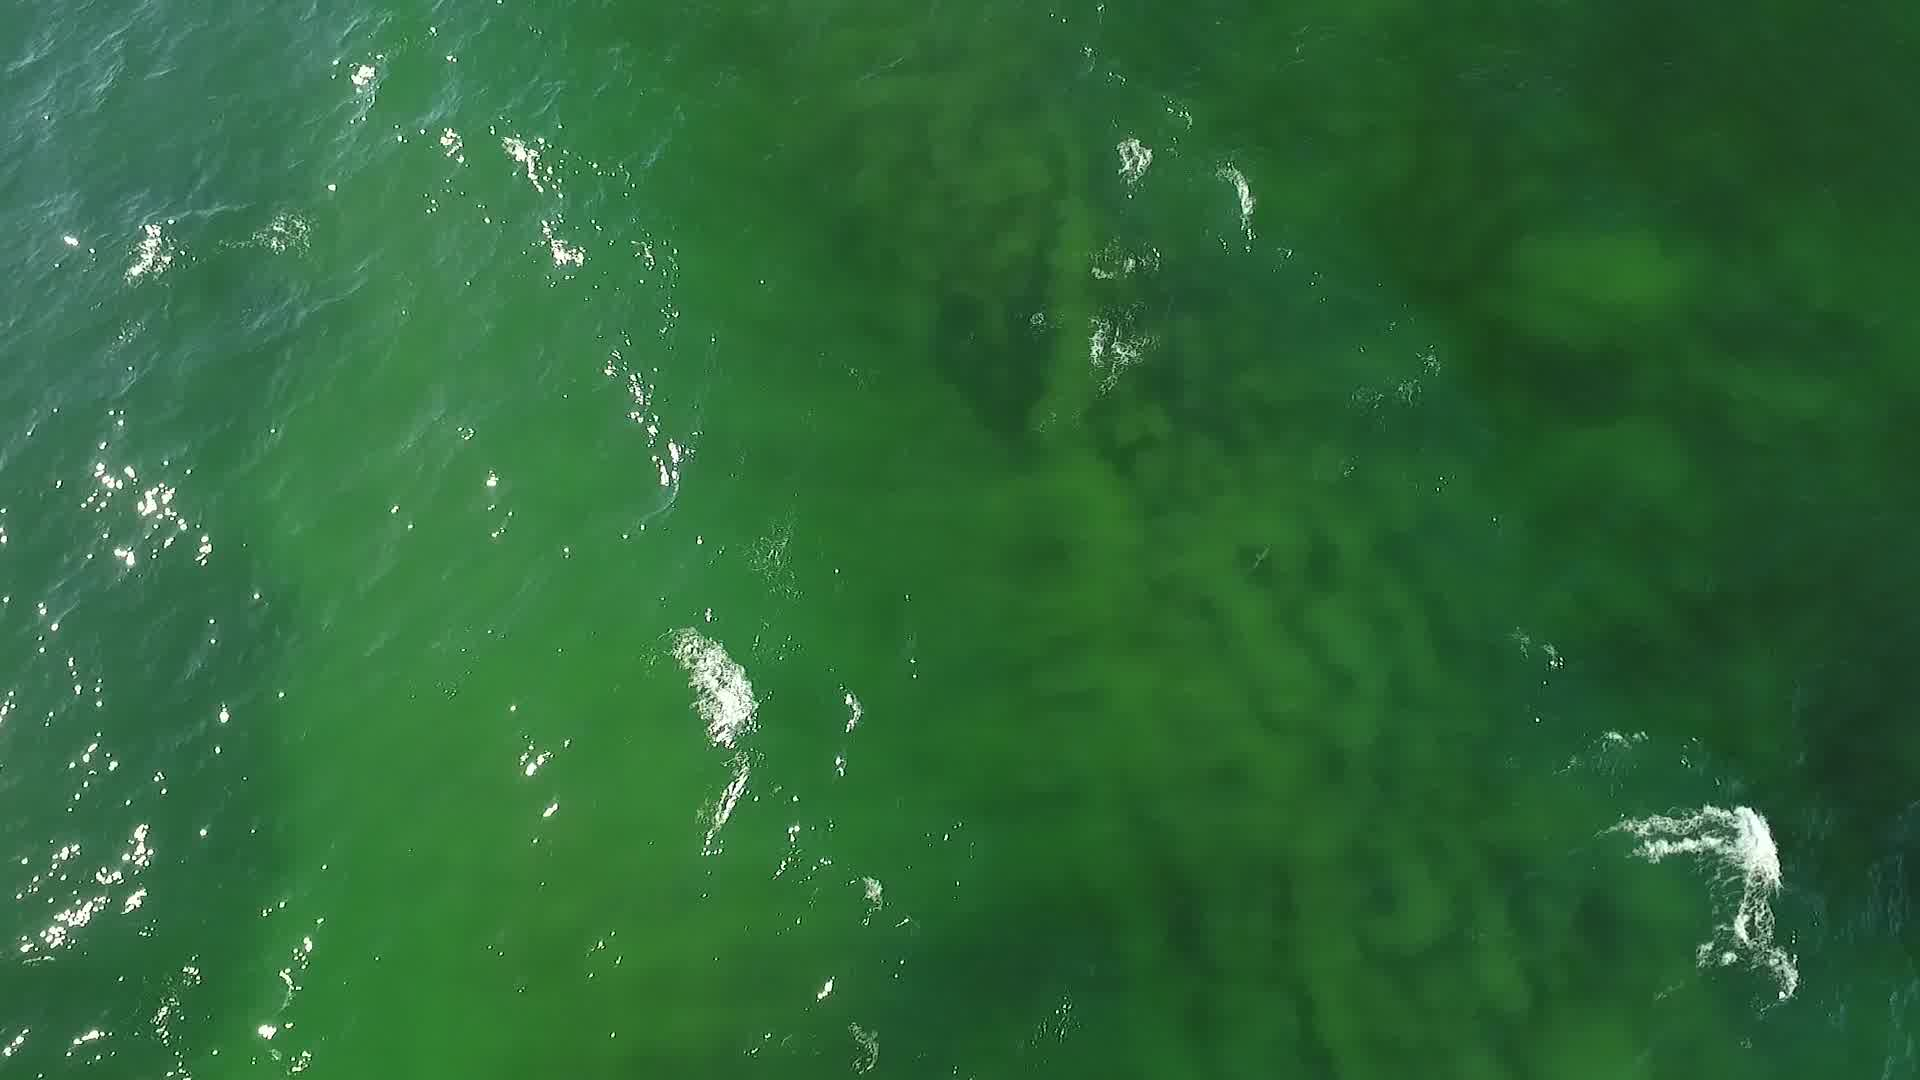shark: (1250, 542, 1274, 572)
